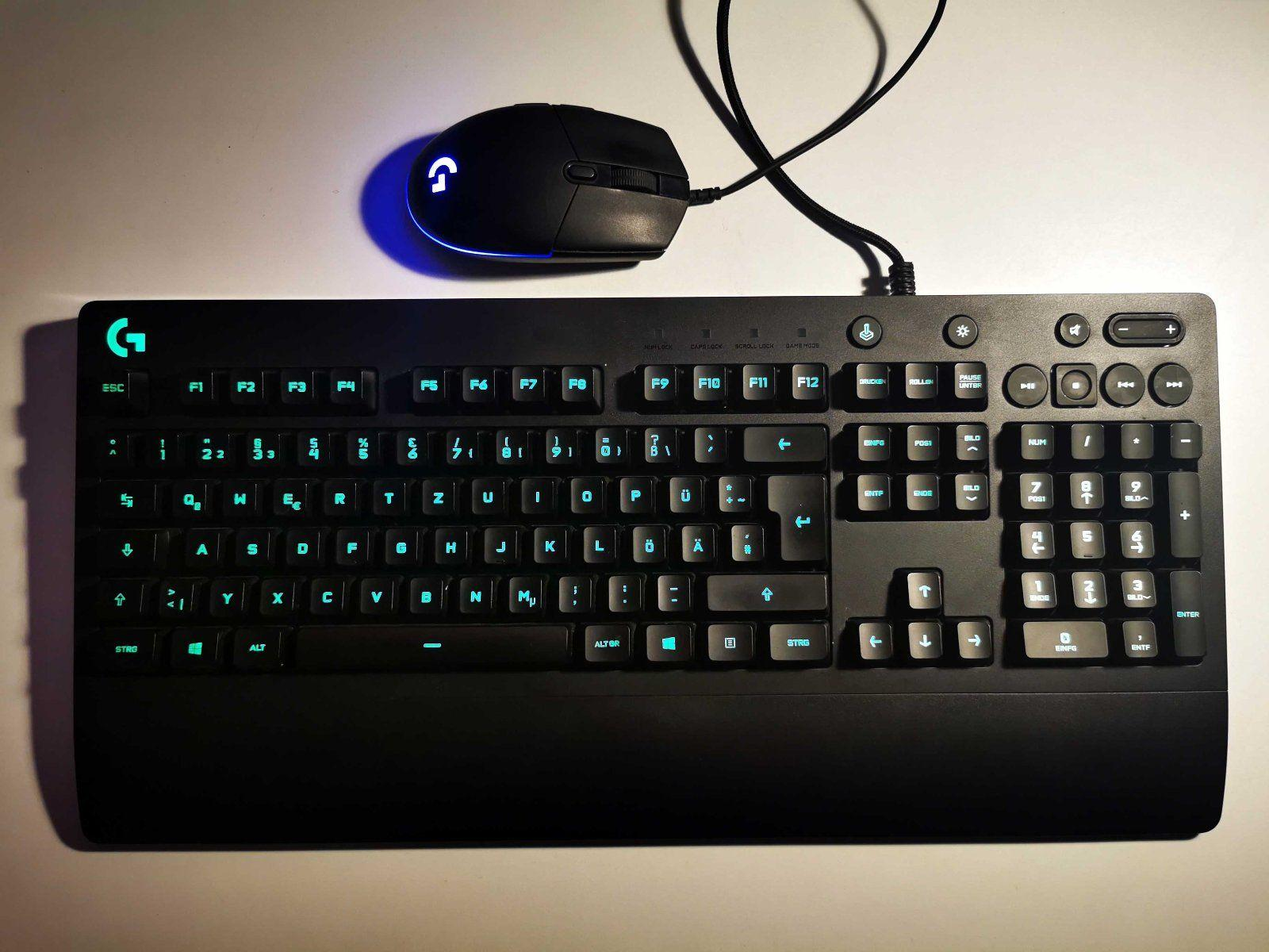0: (590, 421, 627, 464)
1: (138, 427, 181, 470)
2: (187, 425, 232, 472)
3: (241, 425, 282, 471)
4: (293, 426, 332, 468)
5: (343, 425, 381, 468)
6: (392, 424, 430, 465)
7: (441, 423, 478, 465)
8: (491, 423, 528, 466)
9: (541, 423, 578, 464)
a: (182, 524, 219, 568)
accent: (690, 422, 724, 460)
ae: (678, 520, 715, 560)
alt-left: (228, 623, 282, 668)
altgr-right: (580, 620, 631, 660)
b: (405, 572, 443, 612)
c: (306, 573, 344, 613)
caret: (93, 426, 128, 468)
comma: (555, 571, 591, 610)
d: (282, 524, 320, 565)
del: (739, 421, 826, 462)
e: (270, 474, 309, 517)
enter: (762, 470, 825, 560)
f: (332, 523, 368, 564)
g: (381, 524, 417, 563)
h: (431, 522, 468, 564)
hash: (727, 520, 761, 559)
i: (518, 472, 556, 512)
j: (481, 521, 518, 562)
k: (530, 520, 568, 562)
keyboard: (61, 294, 1227, 698)
l: (580, 520, 615, 561)
less: (154, 574, 192, 617)
m: (504, 571, 542, 612)
minus: (654, 570, 689, 608)
n: (455, 572, 493, 612)
o: (567, 472, 605, 512)
oe: (629, 520, 666, 561)
p: (616, 472, 654, 512)
plus: (714, 470, 750, 511)
point: (605, 570, 641, 609)
q: (167, 475, 208, 520)
r: (319, 474, 356, 516)
s: (232, 524, 270, 566)
shift-left: (89, 578, 141, 620)
shift-lock: (85, 528, 159, 572)
shift-right: (704, 570, 826, 610)
space: (290, 620, 569, 669)
ss: (639, 422, 676, 463)
strg-left: (84, 625, 156, 670)
strg-right: (765, 619, 828, 659)
t: (370, 474, 405, 513)
tab: (91, 478, 156, 520)
u: (468, 473, 506, 513)
ue: (666, 471, 702, 512)
v: (356, 572, 393, 612)
w: (219, 474, 257, 517)
x: (256, 574, 293, 615)
y: (206, 573, 244, 616)
z: (419, 474, 454, 513)
